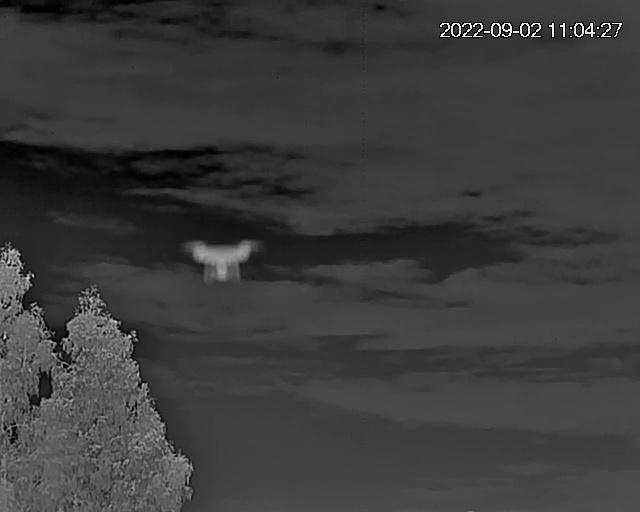DJI-Phantom: (182, 238, 265, 292)
